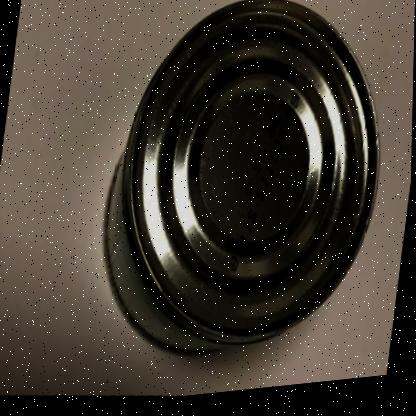Metal: (104, 4, 380, 356)
